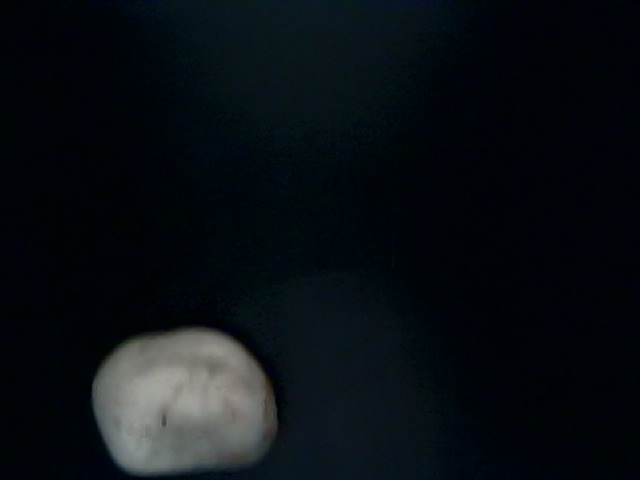QTLJ: (472, 361, 614, 480)
